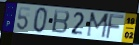0: (33, 7, 49, 34)
2: (71, 11, 85, 36)
5: (16, 6, 32, 31)
B: (51, 9, 71, 35)
F: (105, 13, 125, 40)
M: (85, 12, 111, 40)
